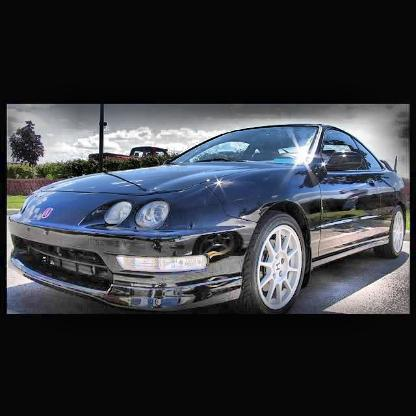Acura Integra Type R 2001: (8, 122, 409, 309)
